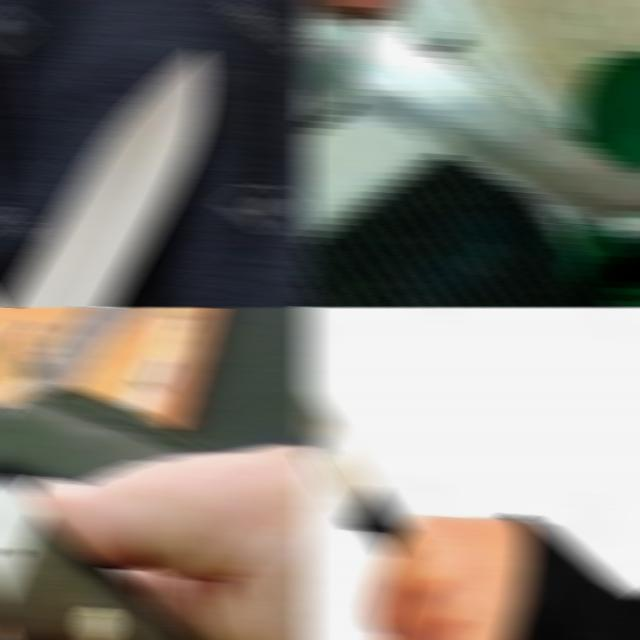Knife: (1, 50, 211, 307), (0, 476, 200, 640), (301, 388, 410, 555)
Knife_Handle: (301, 0, 640, 262), (301, 320, 544, 640), (0, 22, 257, 307)
